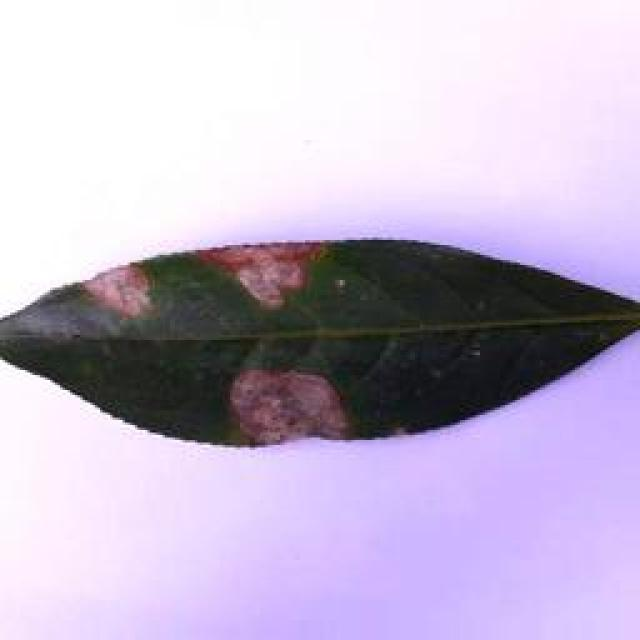Gray Blight: (2, 235, 640, 453)
